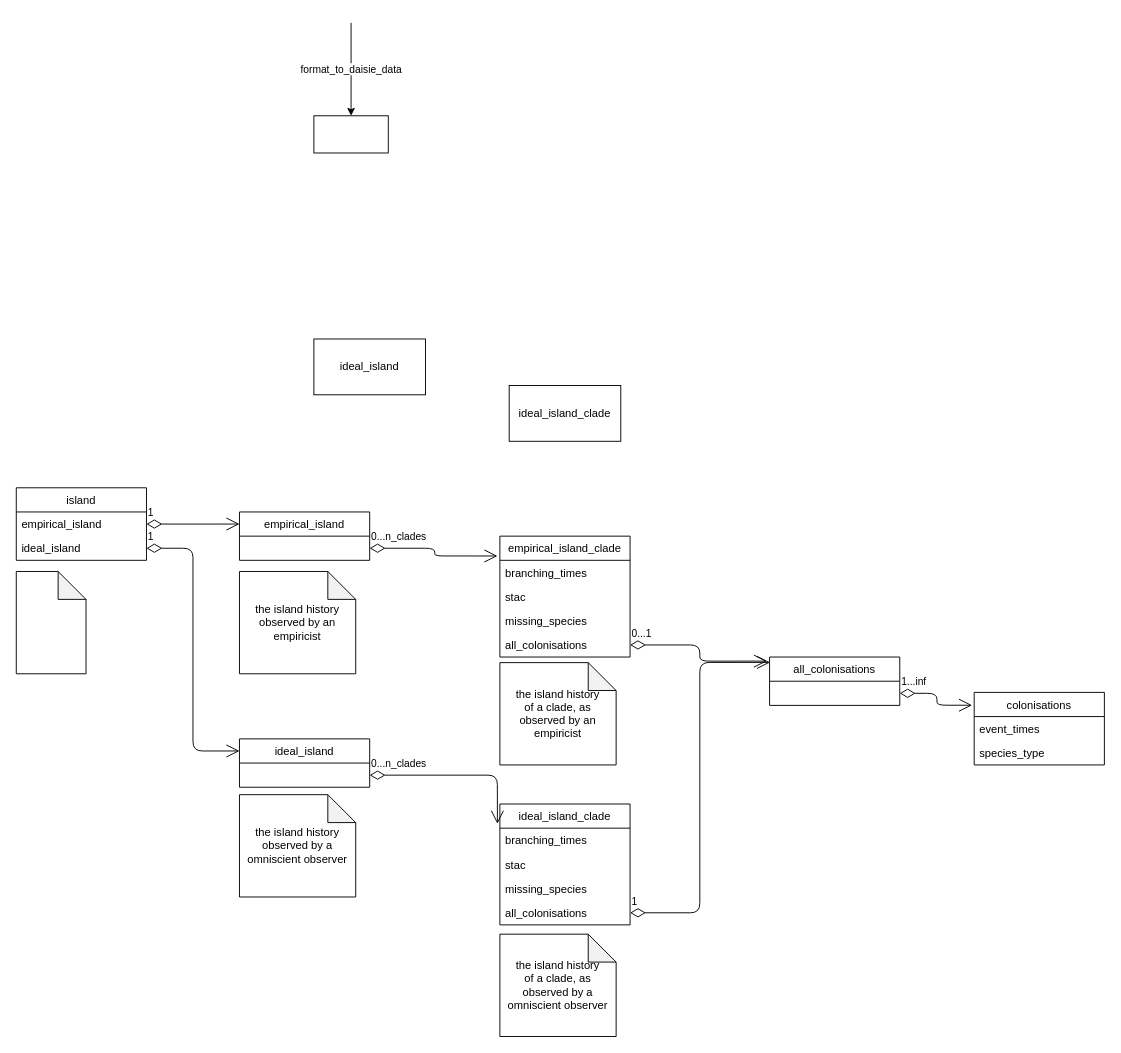
Image size: 1121x1053. Some labels were removed from this diagram. Each missing label, with the centre of its shape:
DAISIE datalist: point (350, 134)
the observed island histories: point (50, 622)
